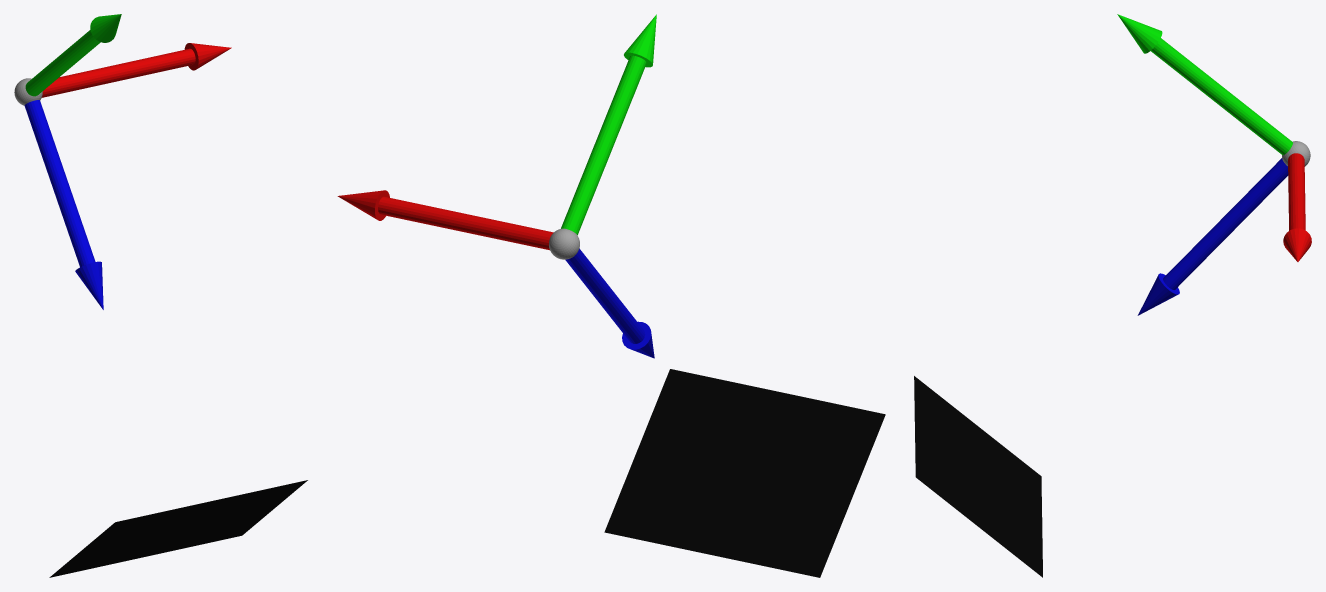
3 renders of one model, left to right at view 1: azimuth 30°, elevation 25°; view 2: azimuth 150°, elevation 25°; view 3: azimuth 270°, elevation 25°, orthographic. The views are drawn at different scales.
Size of the model in its own units: 0.1893 by 0.301 by 0.2077.
